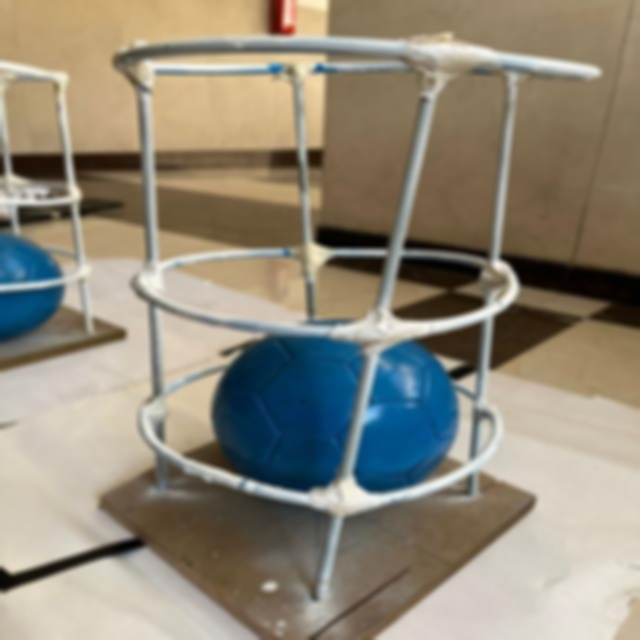blue_ball: (198, 326, 472, 526), (0, 216, 73, 347)
silo: (95, 20, 612, 620), (0, 41, 127, 390)
